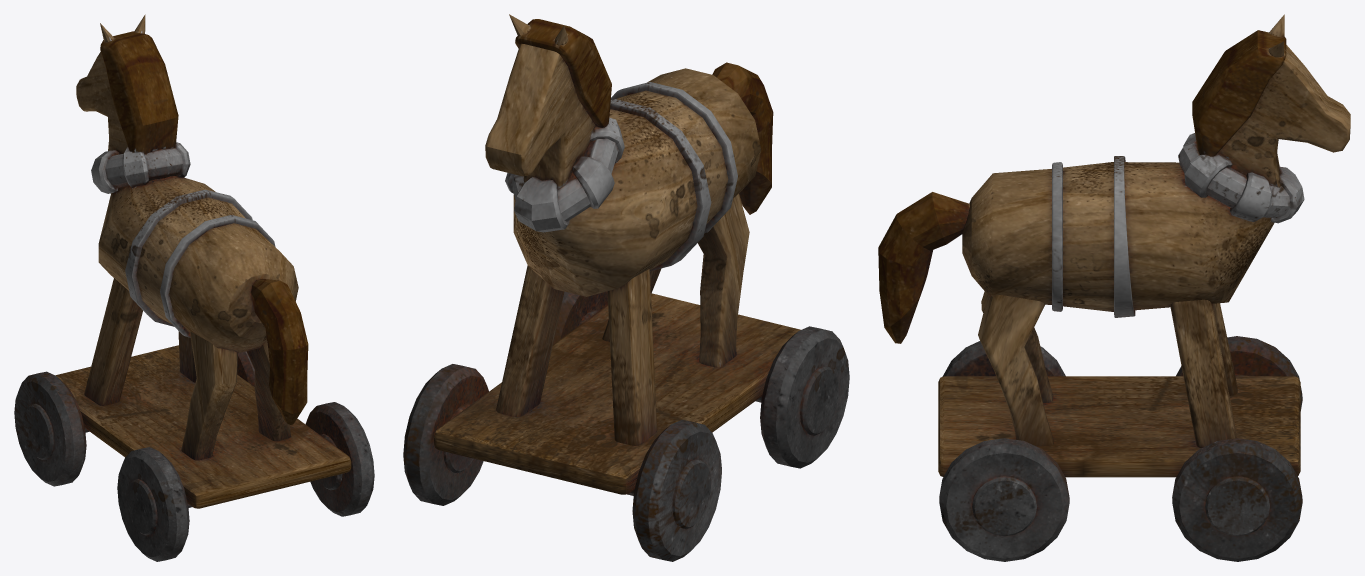
Rendered from trojan_horse.glb.
The picture shows the model from 3 angles, left to right: view 1: azimuth 30°, elevation 25°; view 2: azimuth 150°, elevation 25°; view 3: azimuth 270°, elevation 25°; orthographic projection. The views are drawn at different scales.
Visible parts, largest first — view 1: Trojan_Horse_Tri_horse_1; view 2: Trojan_Horse_Tri_horse_1; view 3: Trojan_Horse_Tri_horse_1.
Part boxes in pixels (x1,y1,x2,y2): Trojan_Horse_Tri_horse_1: (14,14,374,561); Trojan_Horse_Tri_horse_1: (403,14,849,561); Trojan_Horse_Tri_horse_1: (878,14,1350,561).
Size of the model in its own units: 3.41 by 6.51 by 5.78.
Materials: 1 (1 with a texture image).
